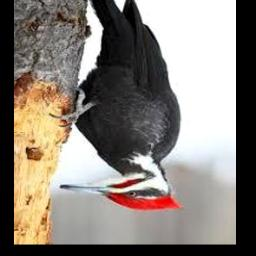Woodpecker: (49, 0, 180, 210)
